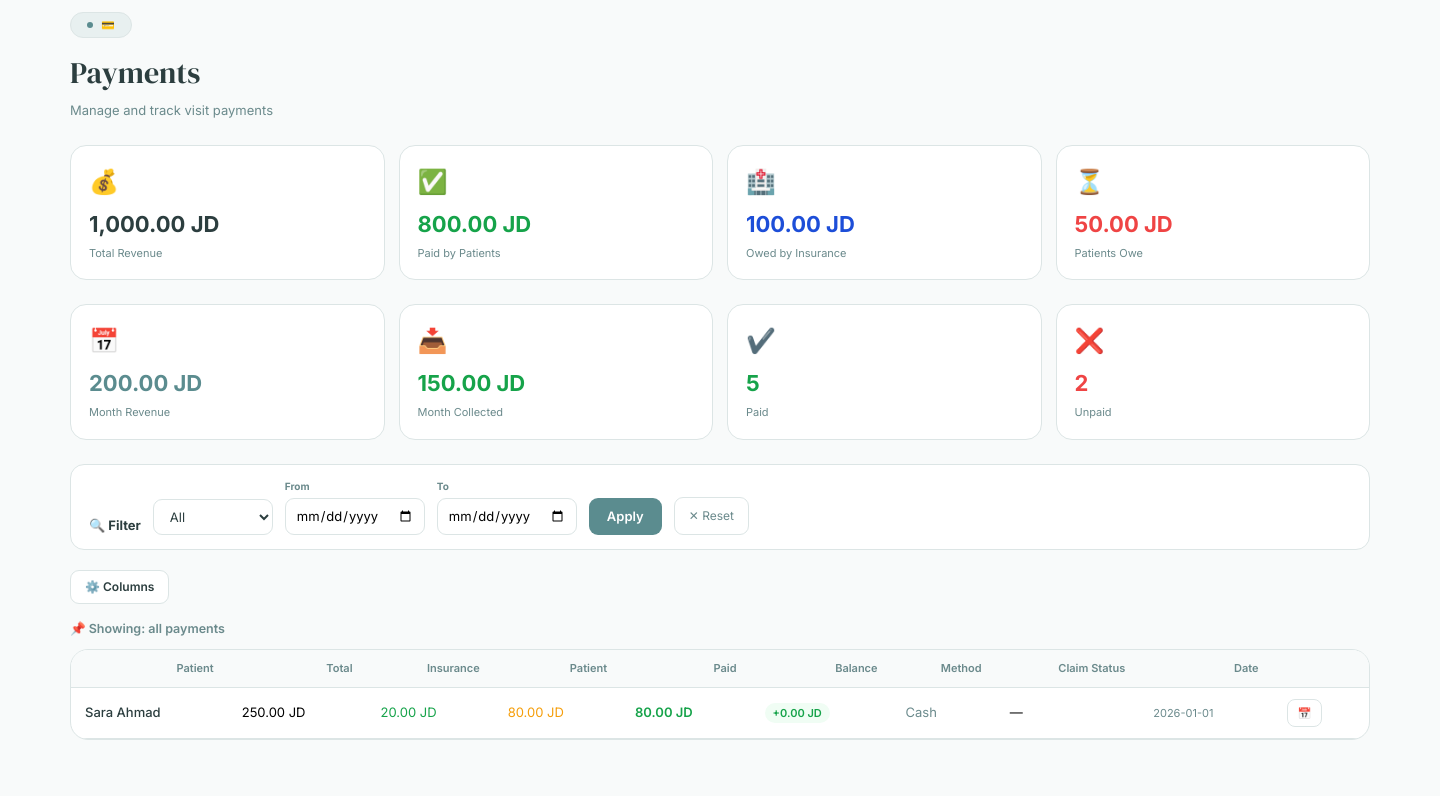
Scenario: Payments › expands a row to load and show visit details
Click the text "Sara Ahmad" at (149, 713), box [71,687,228,738]
(page scrolled)
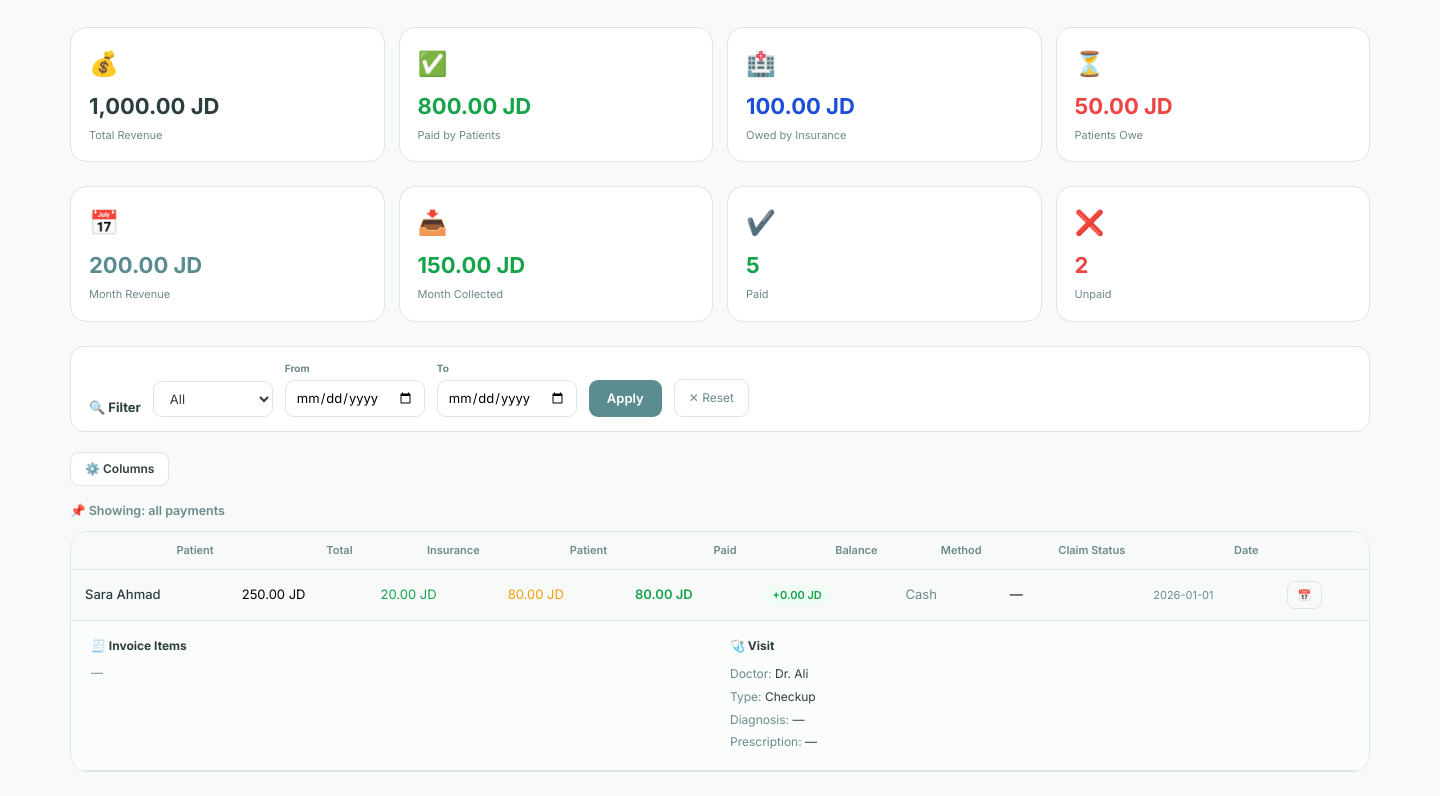
Expected: the text "Dr. Ali" is shown, [775,666,808,681]
